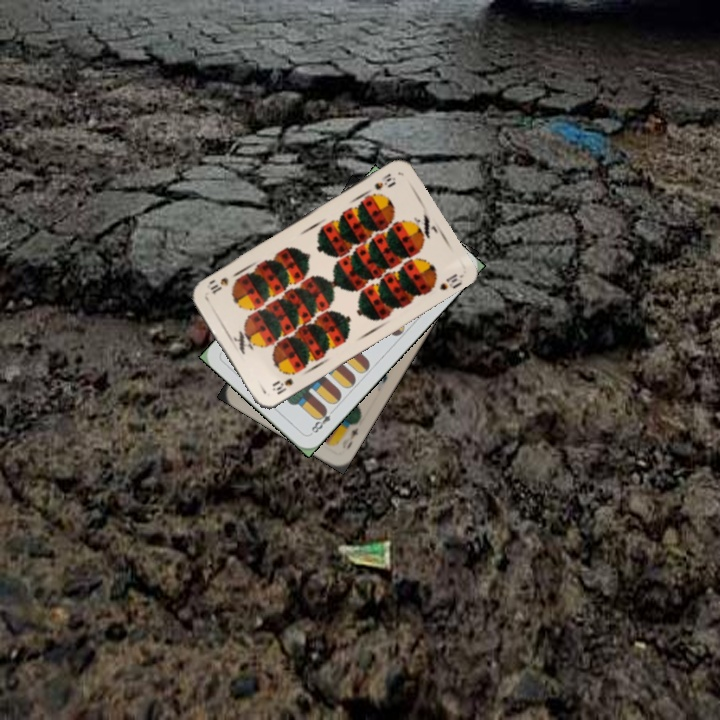E8: (306, 404, 338, 437)
EO: (342, 417, 361, 452)
S10: (370, 169, 398, 193), (268, 374, 296, 397)
